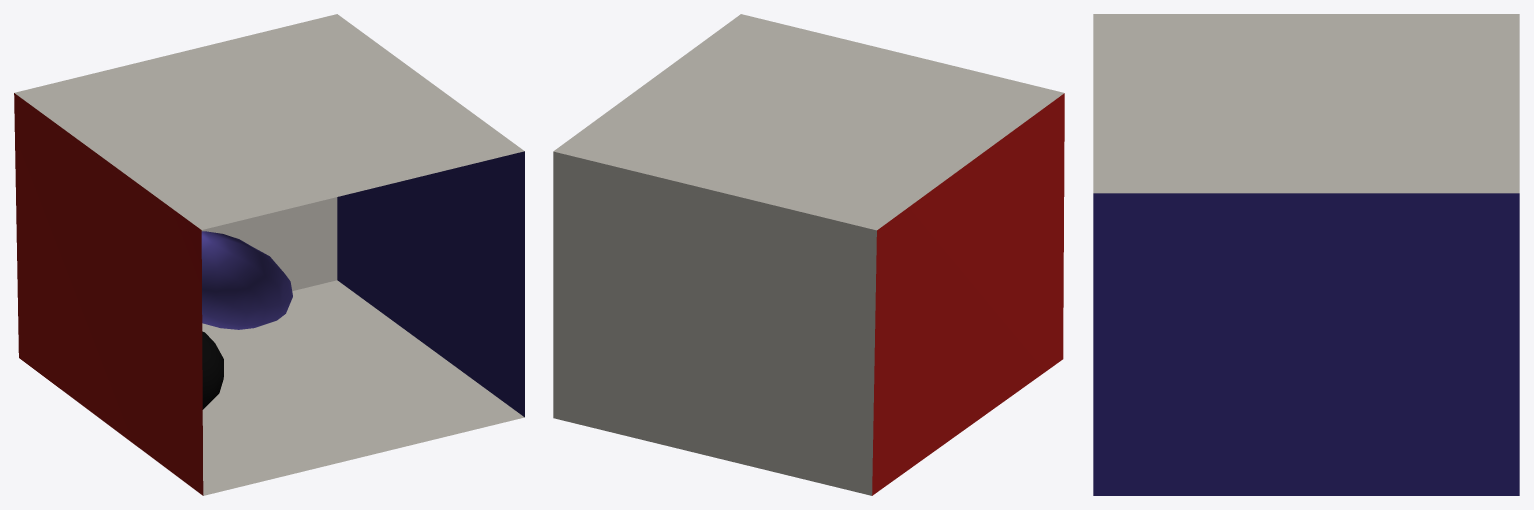
File: CornellBox-Ellipsoid-193.obj
The picture shows the model from 3 angles, left to right: view 1: azimuth 30°, elevation 25°; view 2: azimuth 150°, elevation 25°; view 3: azimuth 270°, elevation 25°; orthographic projection. The views are drawn at different scales.
Visible parts, largest first — view 1: ceiling, leftWall, floor, rightWall, leftSphere, backWall, rightSphere; view 2: backWall, ceiling, leftWall; view 3: rightWall, ceiling.
Part boxes in pixels (box(x1,y1,x2,y2)): ceiling: box(14, 14, 524, 229); leftWall: box(14, 93, 203, 495); floor: box(202, 280, 524, 495); rightWall: box(337, 151, 524, 417); leftSphere: box(201, 231, 292, 329); backWall: box(201, 197, 337, 290); rightSphere: box(202, 331, 223, 409); backWall: box(553, 151, 876, 495); ceiling: box(553, 14, 1064, 230); leftWall: box(872, 93, 1064, 495); rightWall: box(1093, 193, 1519, 495); ceiling: box(1093, 14, 1519, 193).
Bounding box in the file's own units: 2.02 × 1.59 × 2.03.
